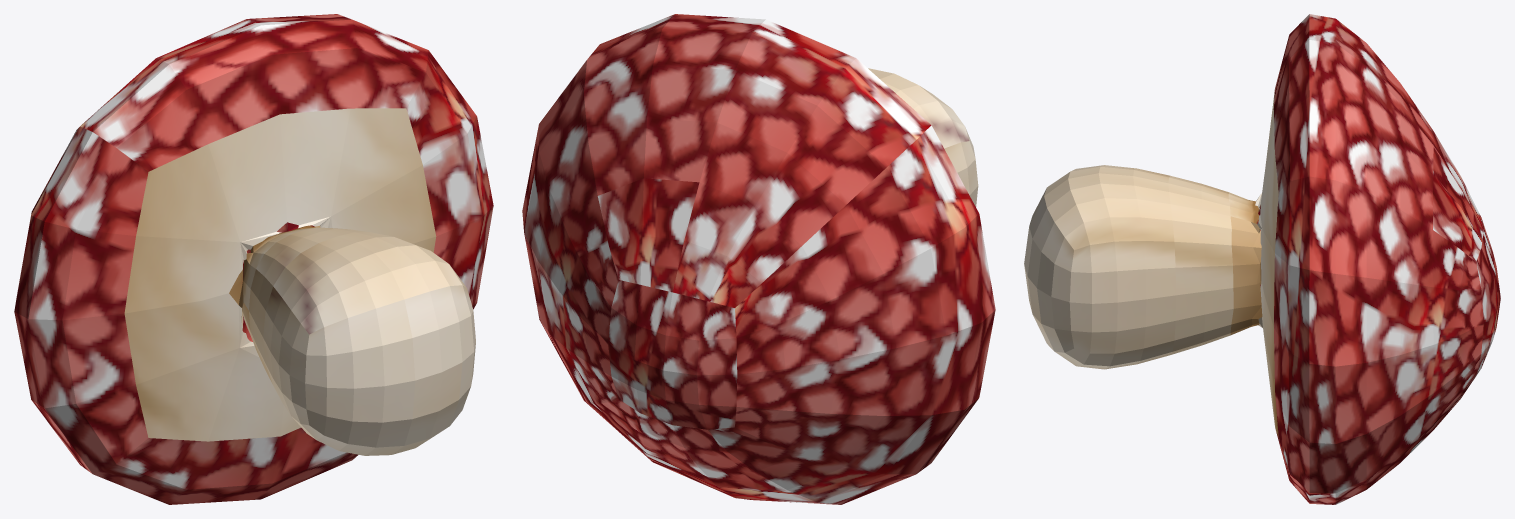
File: Red mushroom 1.fbx
The picture shows the model from 3 angles, left to right: view 1: azimuth 30°, elevation 25°; view 2: azimuth 150°, elevation 25°; view 3: azimuth 270°, elevation 25°; orthographic projection. The views are drawn at different scales.
Parts seen in each view (by area): view 1: Red mushroom 1; view 2: Red mushroom 1; view 3: Red mushroom 1.
Part boxes in pixels (x1,y1,x2,y2): Red mushroom 1: [14, 14, 493, 504]; Red mushroom 1: [522, 14, 995, 504]; Red mushroom 1: [1024, 14, 1500, 504].
Bounding box in the file's own units: 867 × 848 × 832.
